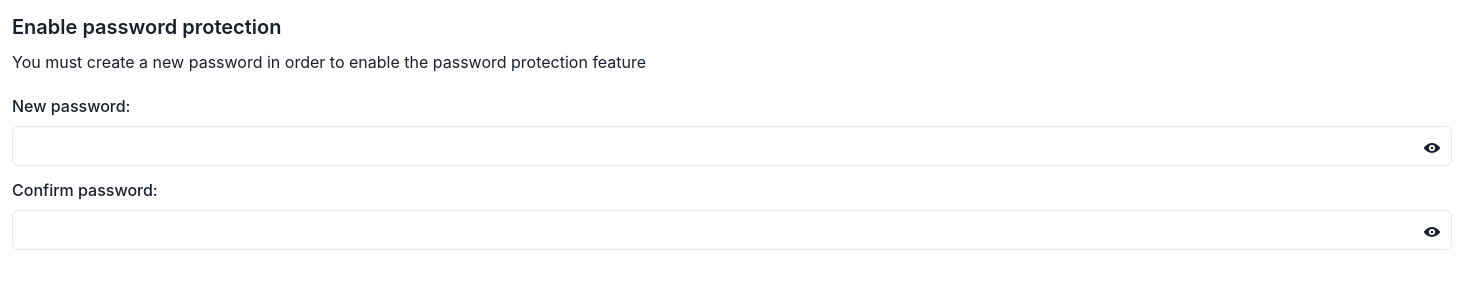
Test case: EnablePasswordForm › should ensure new password and confirm password match
Type "supersecretpassword" into the password field labelled "New password:". click: [732, 146]
box: [12,126,1452,166]
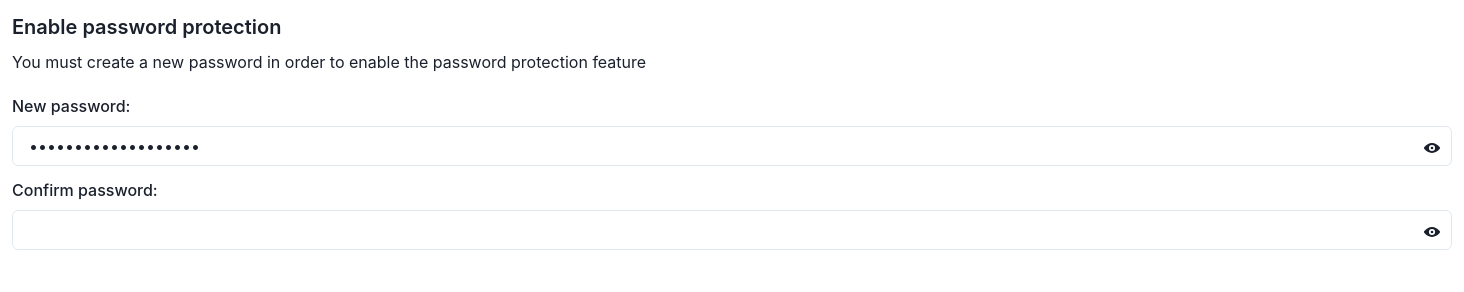
Type "differentpasword" into the password field labelled "Confirm password:". click: [732, 230]
box: [12,210,1452,250]
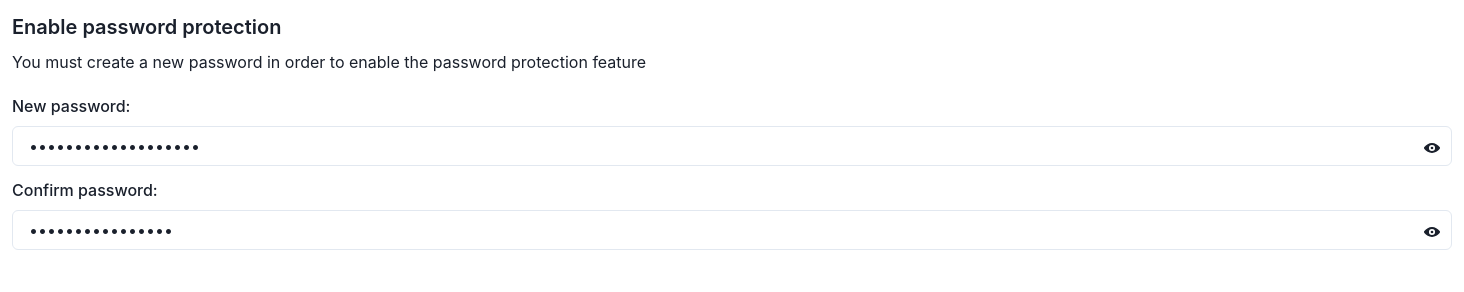
Submit the form, box [12,94,1452,250]
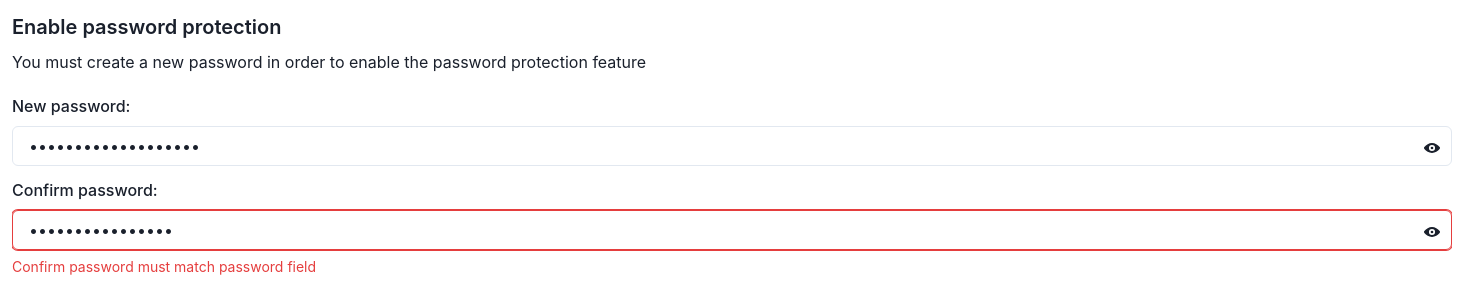
Expected: the text "Confirm password must match password field" is shown, [12,258,316,275]
